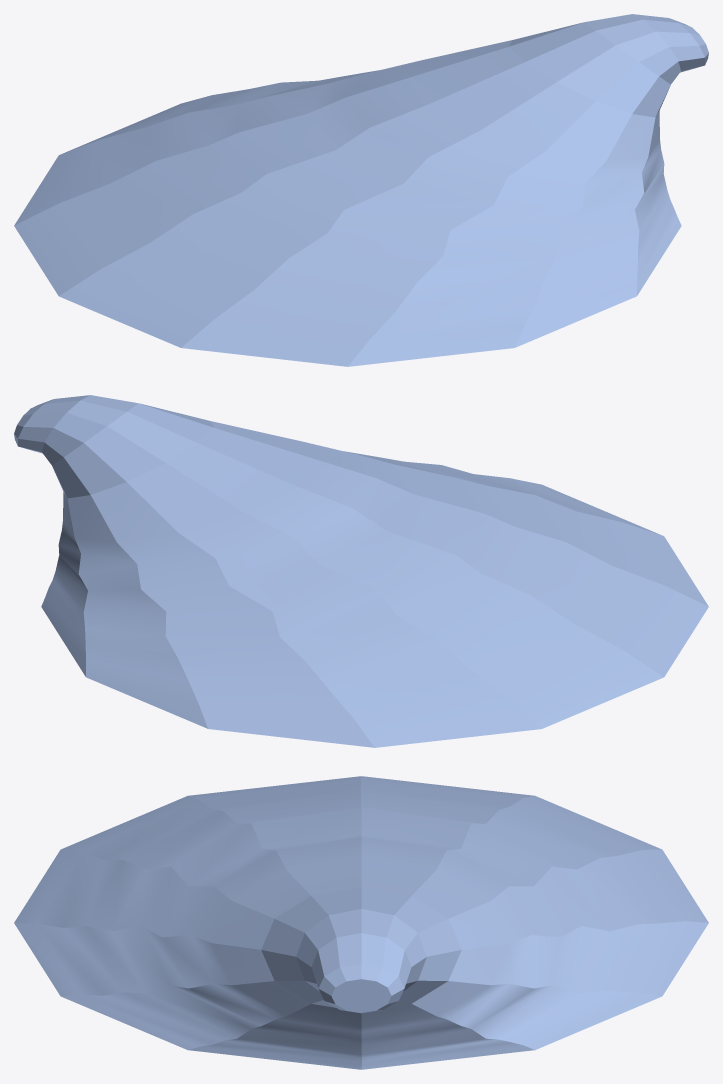
File: oysterClam2.fbx
3 views of the same model, one above another, from view 1: azimuth 30°, elevation 25°; view 2: azimuth 150°, elevation 25°; view 3: azimuth 270°, elevation 25° (orthographic). The views are drawn at different scales.
Parts seen in each view (by area): view 1: pCylinder115; view 2: pCylinder115; view 3: pCylinder115.
Boxes of the visible parts, x1,y1,x2,y2 form: pCylinder115: (14,14,708,366); pCylinder115: (14,395,708,747); pCylinder115: (14,776,708,1069).
Bounding box in the file's own units: 1.34 × 0.2701 × 1.21.
